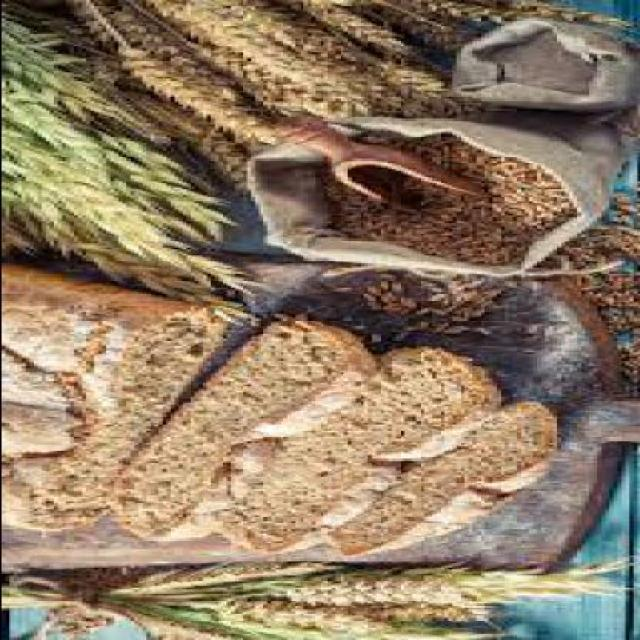BIODEGRADABLE: (2, 0, 255, 325), (96, 312, 370, 537), (213, 342, 495, 552), (2, 263, 218, 529), (1, 563, 628, 639), (318, 398, 559, 556), (64, 0, 270, 142), (145, 1, 386, 102), (105, 63, 246, 189), (273, 4, 439, 99), (172, 30, 338, 116), (282, 0, 408, 49), (487, 32, 588, 88), (357, 0, 472, 49), (423, 0, 635, 26), (479, 169, 552, 240), (386, 74, 476, 117), (419, 204, 483, 253), (426, 285, 503, 318), (382, 318, 487, 340), (375, 210, 447, 242), (358, 275, 411, 314), (576, 269, 636, 300), (552, 242, 612, 272), (330, 199, 382, 233), (419, 275, 483, 300), (576, 223, 636, 249), (532, 180, 572, 218), (431, 144, 487, 164), (459, 157, 515, 177), (411, 133, 451, 153), (599, 298, 636, 316), (620, 340, 635, 374), (608, 192, 632, 213), (326, 183, 351, 203), (418, 184, 451, 199), (443, 195, 471, 211), (399, 177, 426, 191)
